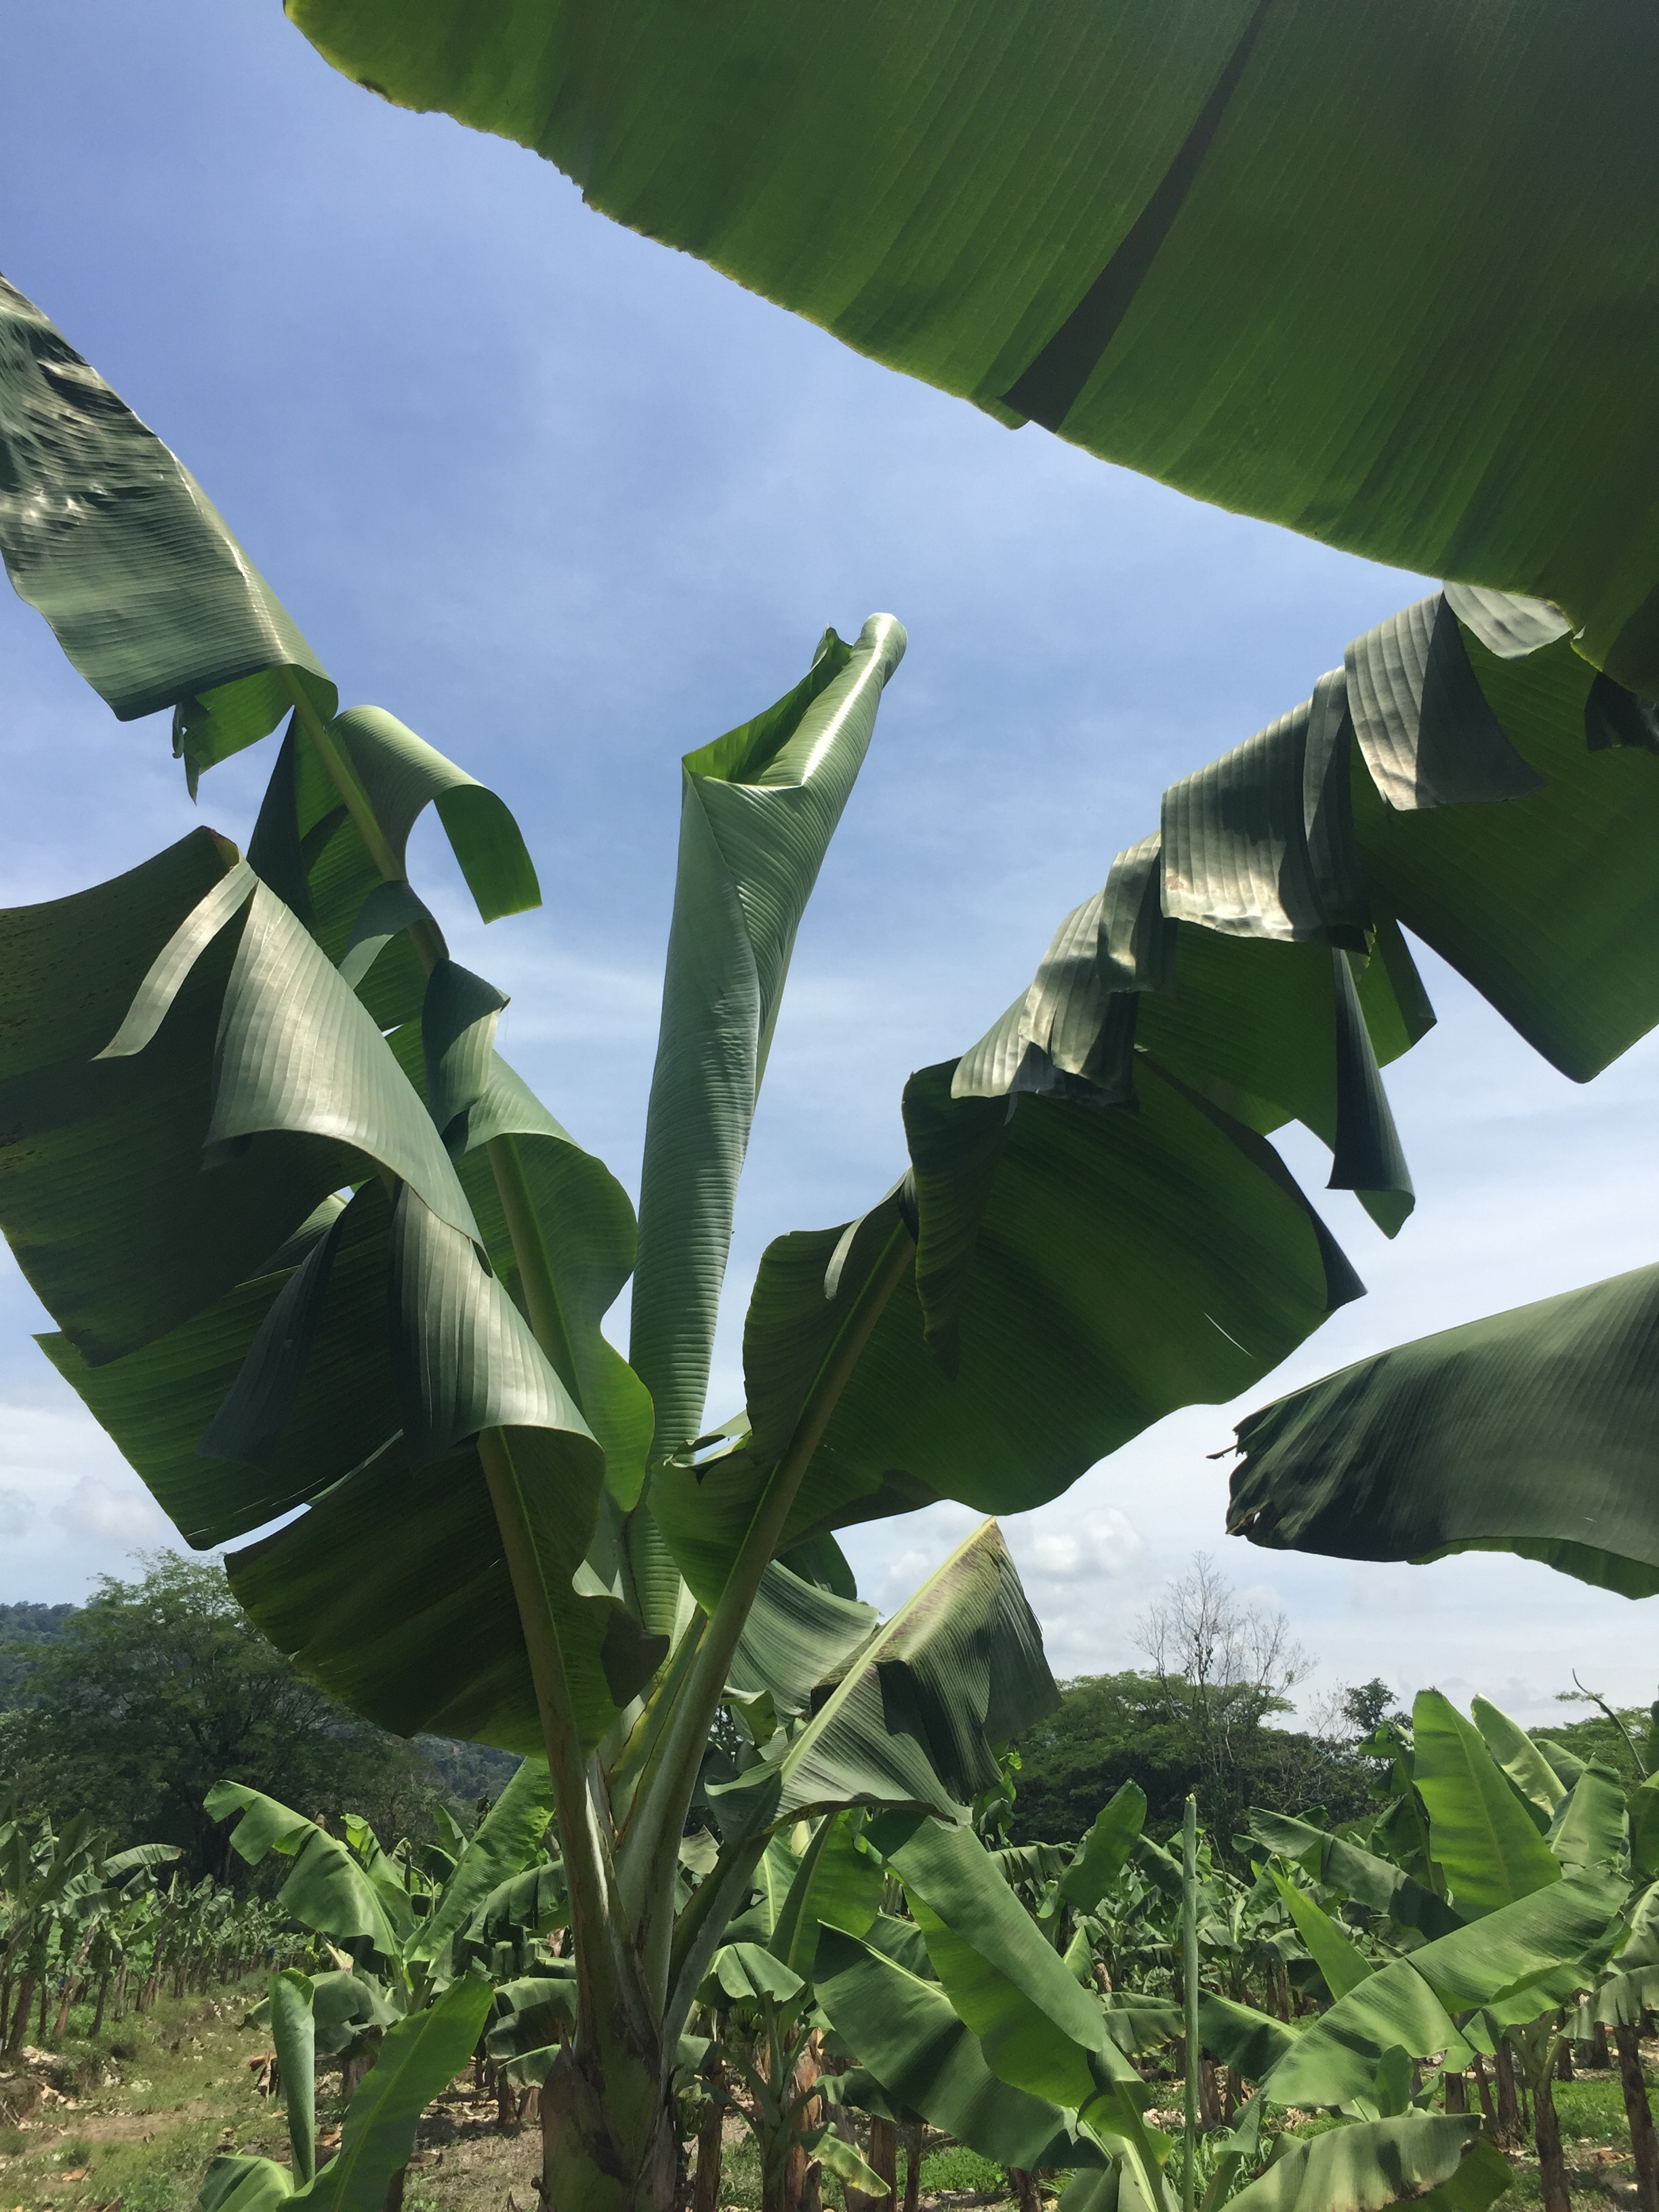candleleafs: (1572, 1669, 1649, 1780), (1182, 1794, 1199, 2184)
